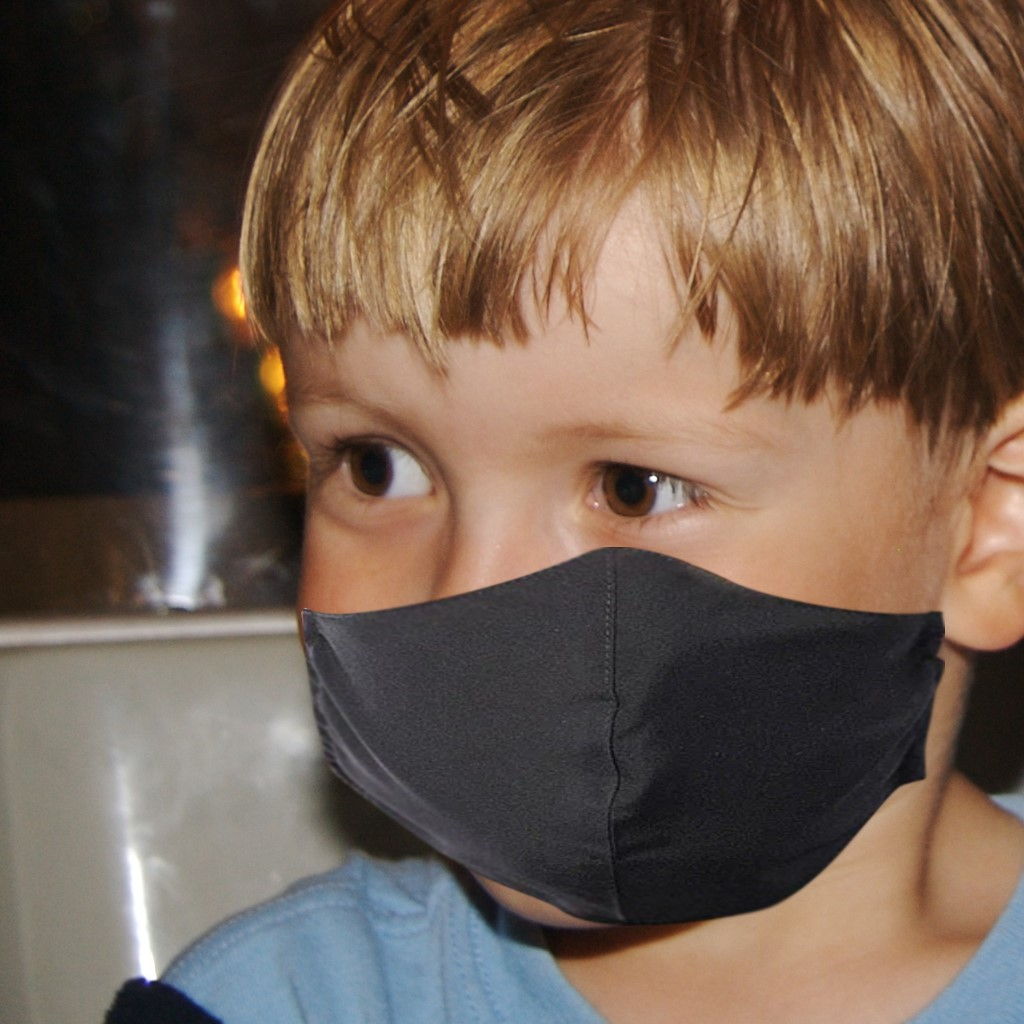con_mascara: (267, 167, 972, 915)
